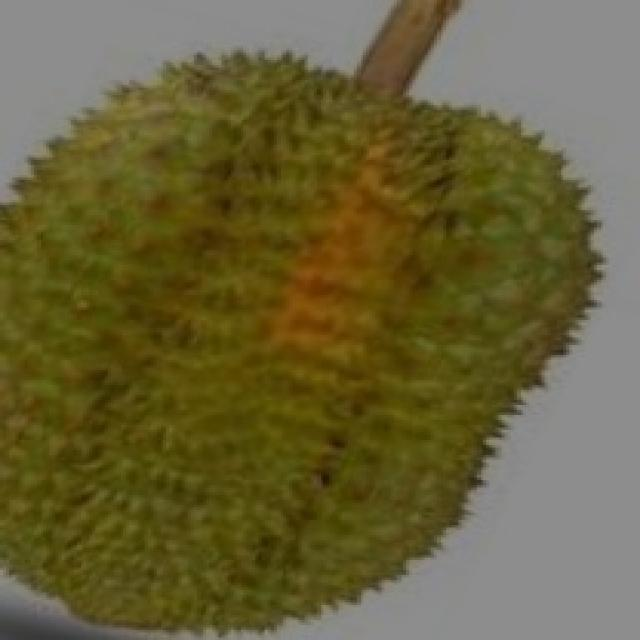fruit: (3, 265, 385, 640)
